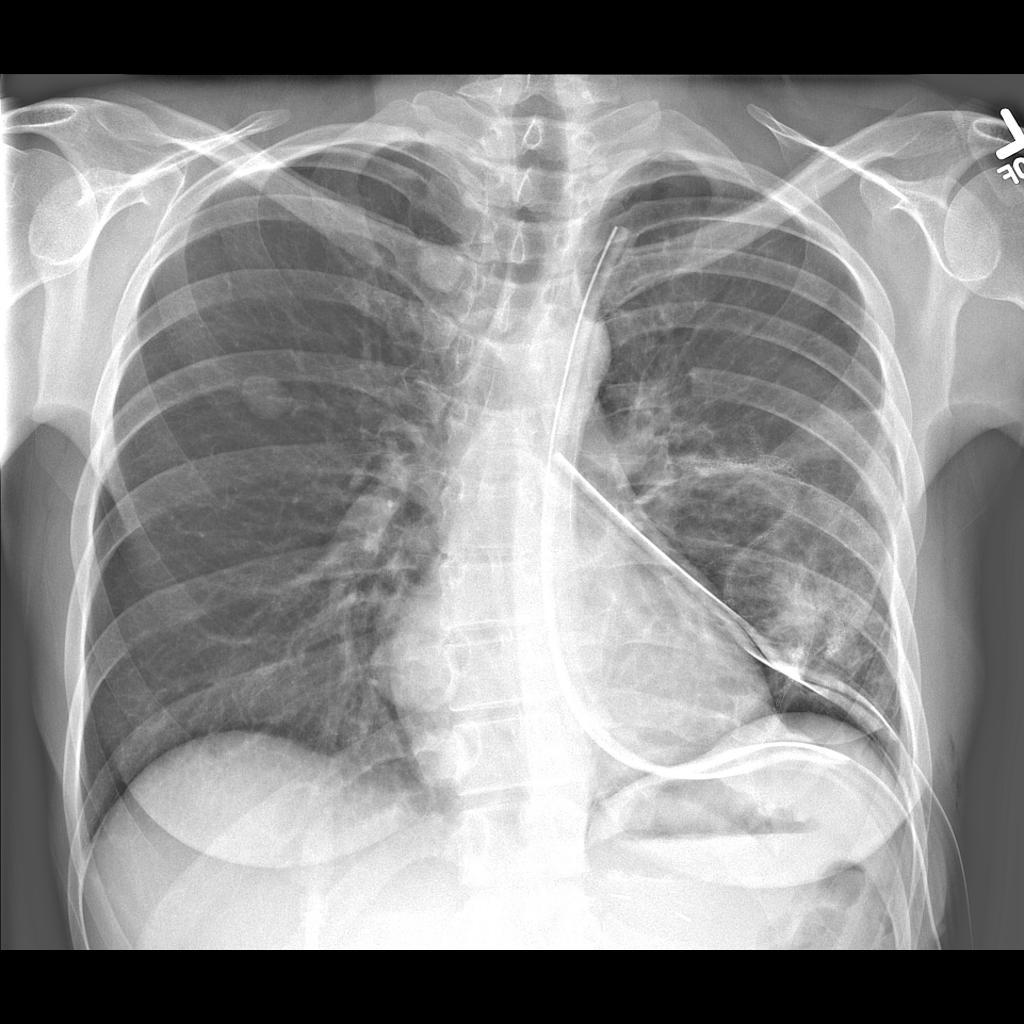Nodule: (235, 364, 306, 422)
